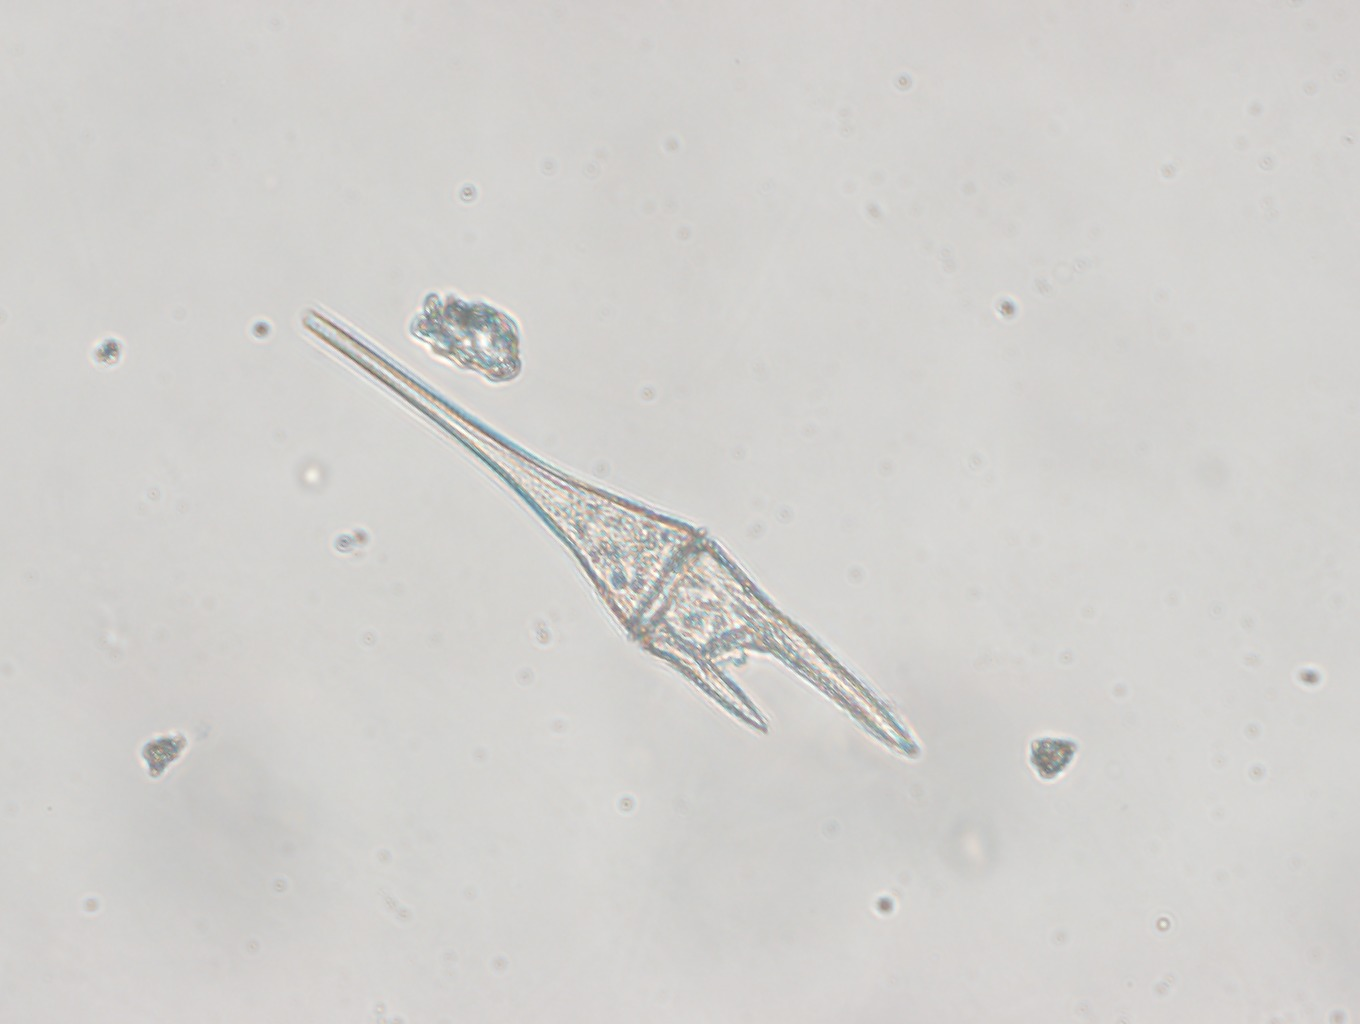ceratium furca: (294, 303, 924, 760)
